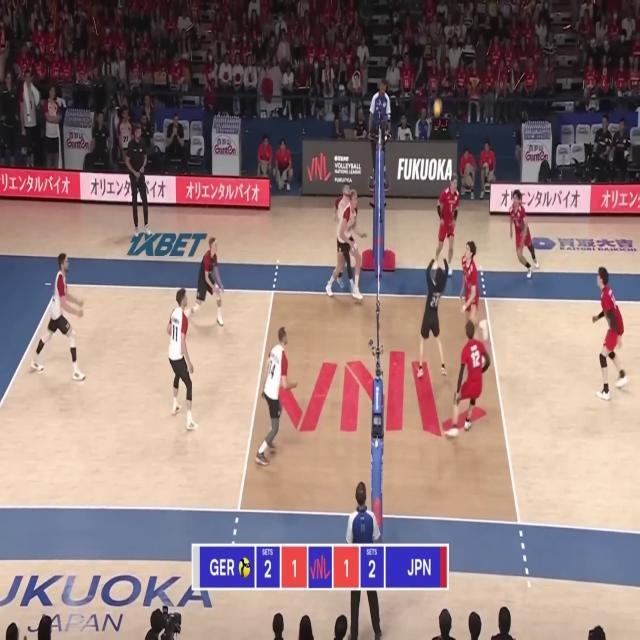referee: (344, 481, 384, 640)
team_one: (30, 253, 86, 383), (257, 326, 298, 467), (167, 288, 199, 432), (325, 189, 365, 301), (186, 235, 224, 326), (331, 186, 350, 239)
team_two: (446, 319, 490, 438), (592, 266, 629, 402), (417, 255, 451, 379), (509, 189, 540, 280), (434, 174, 458, 279), (460, 242, 481, 328)
